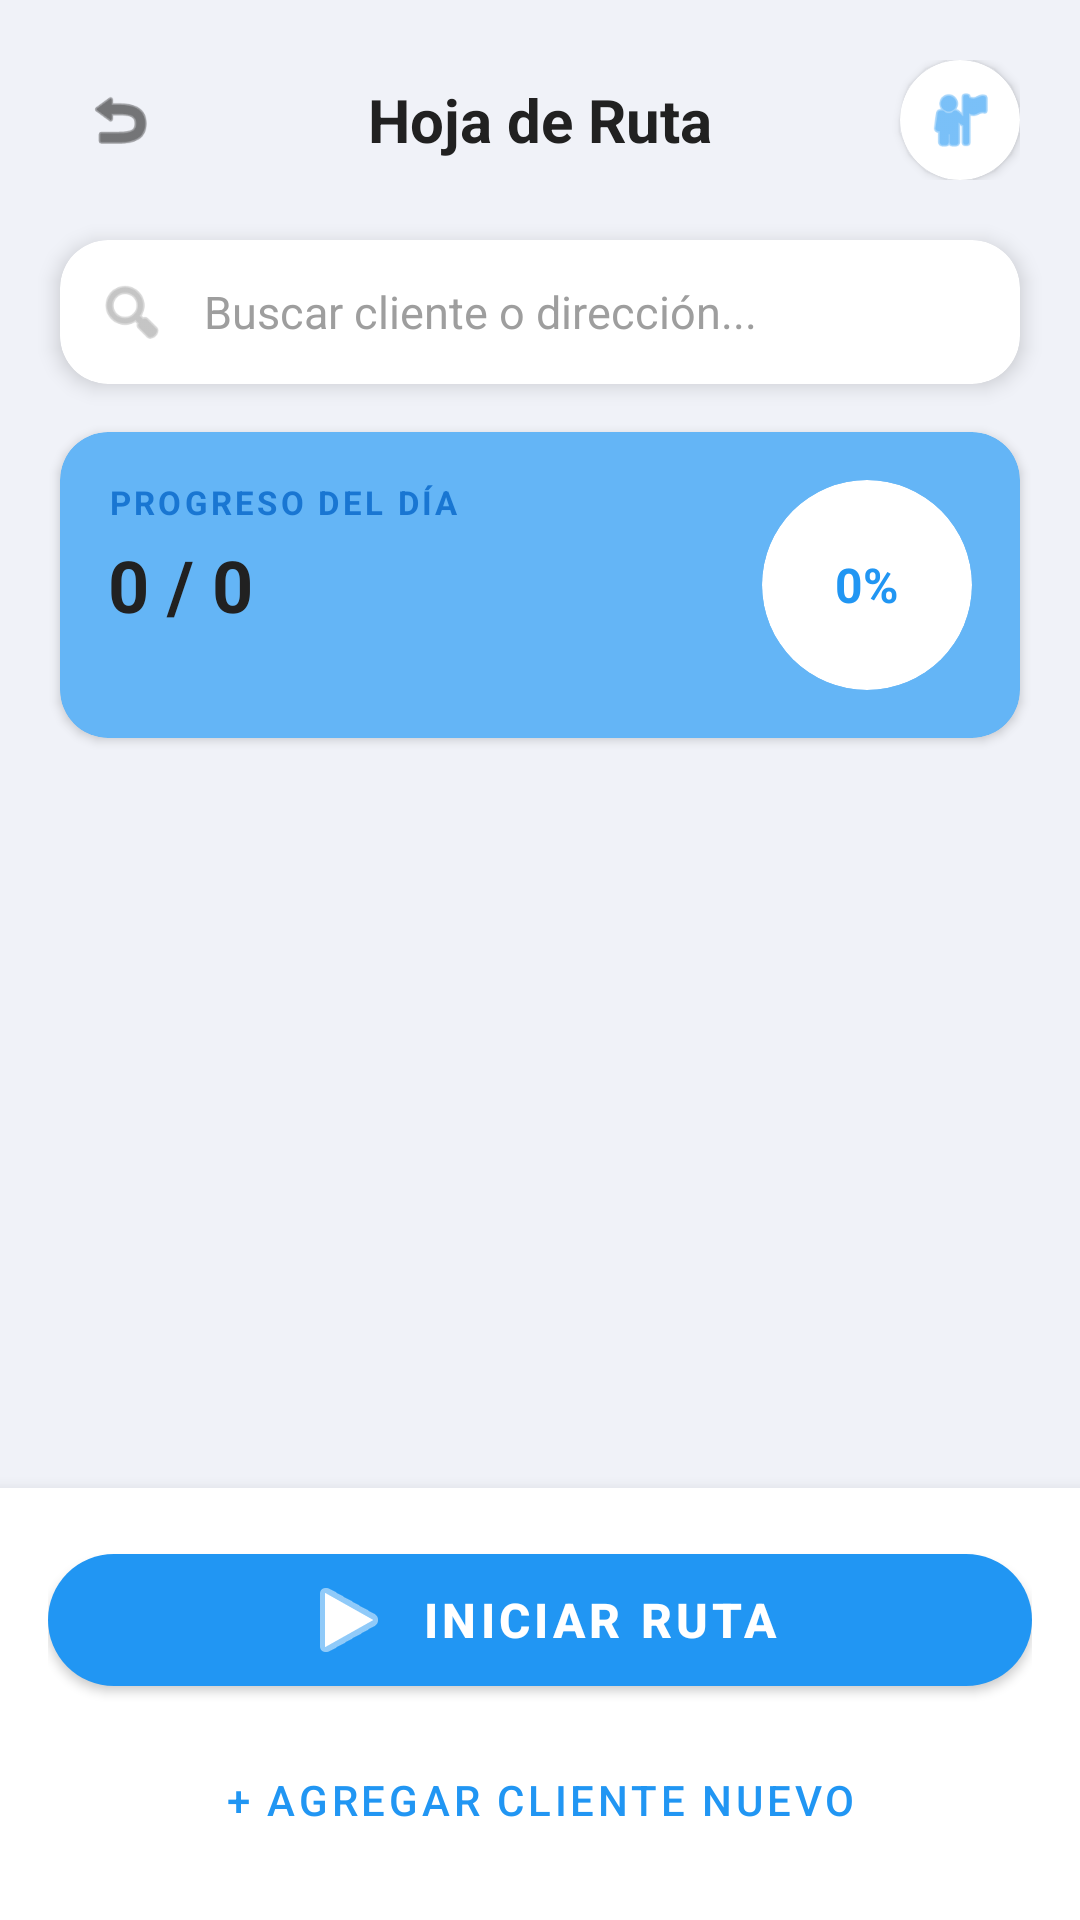

Icon click points for this 1080px x 1920px phone screenshot, format point (x, y):
myplaces: point (960, 120)
revert: point (121, 120)
search: point (132, 312)
